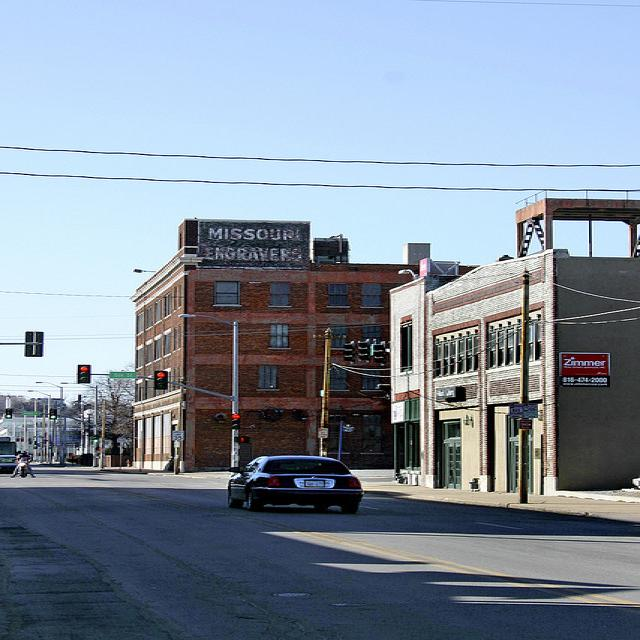motor: (13, 457, 31, 478)
